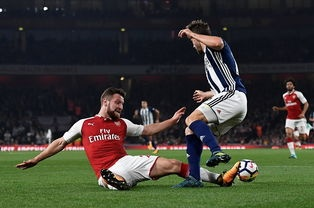falling: (0, 83, 245, 191)
